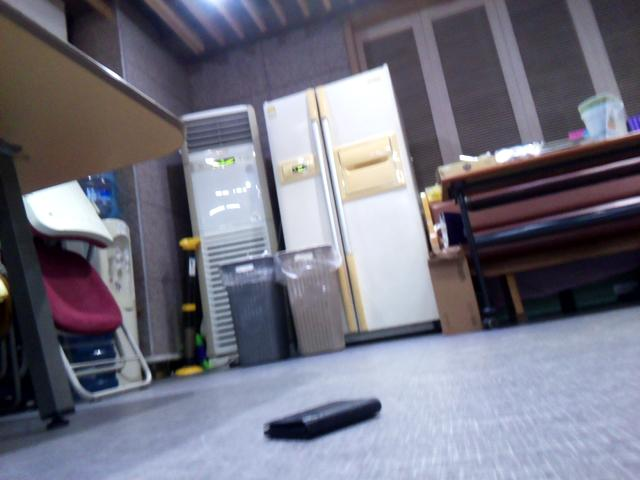wallet: (252, 393, 388, 441)
